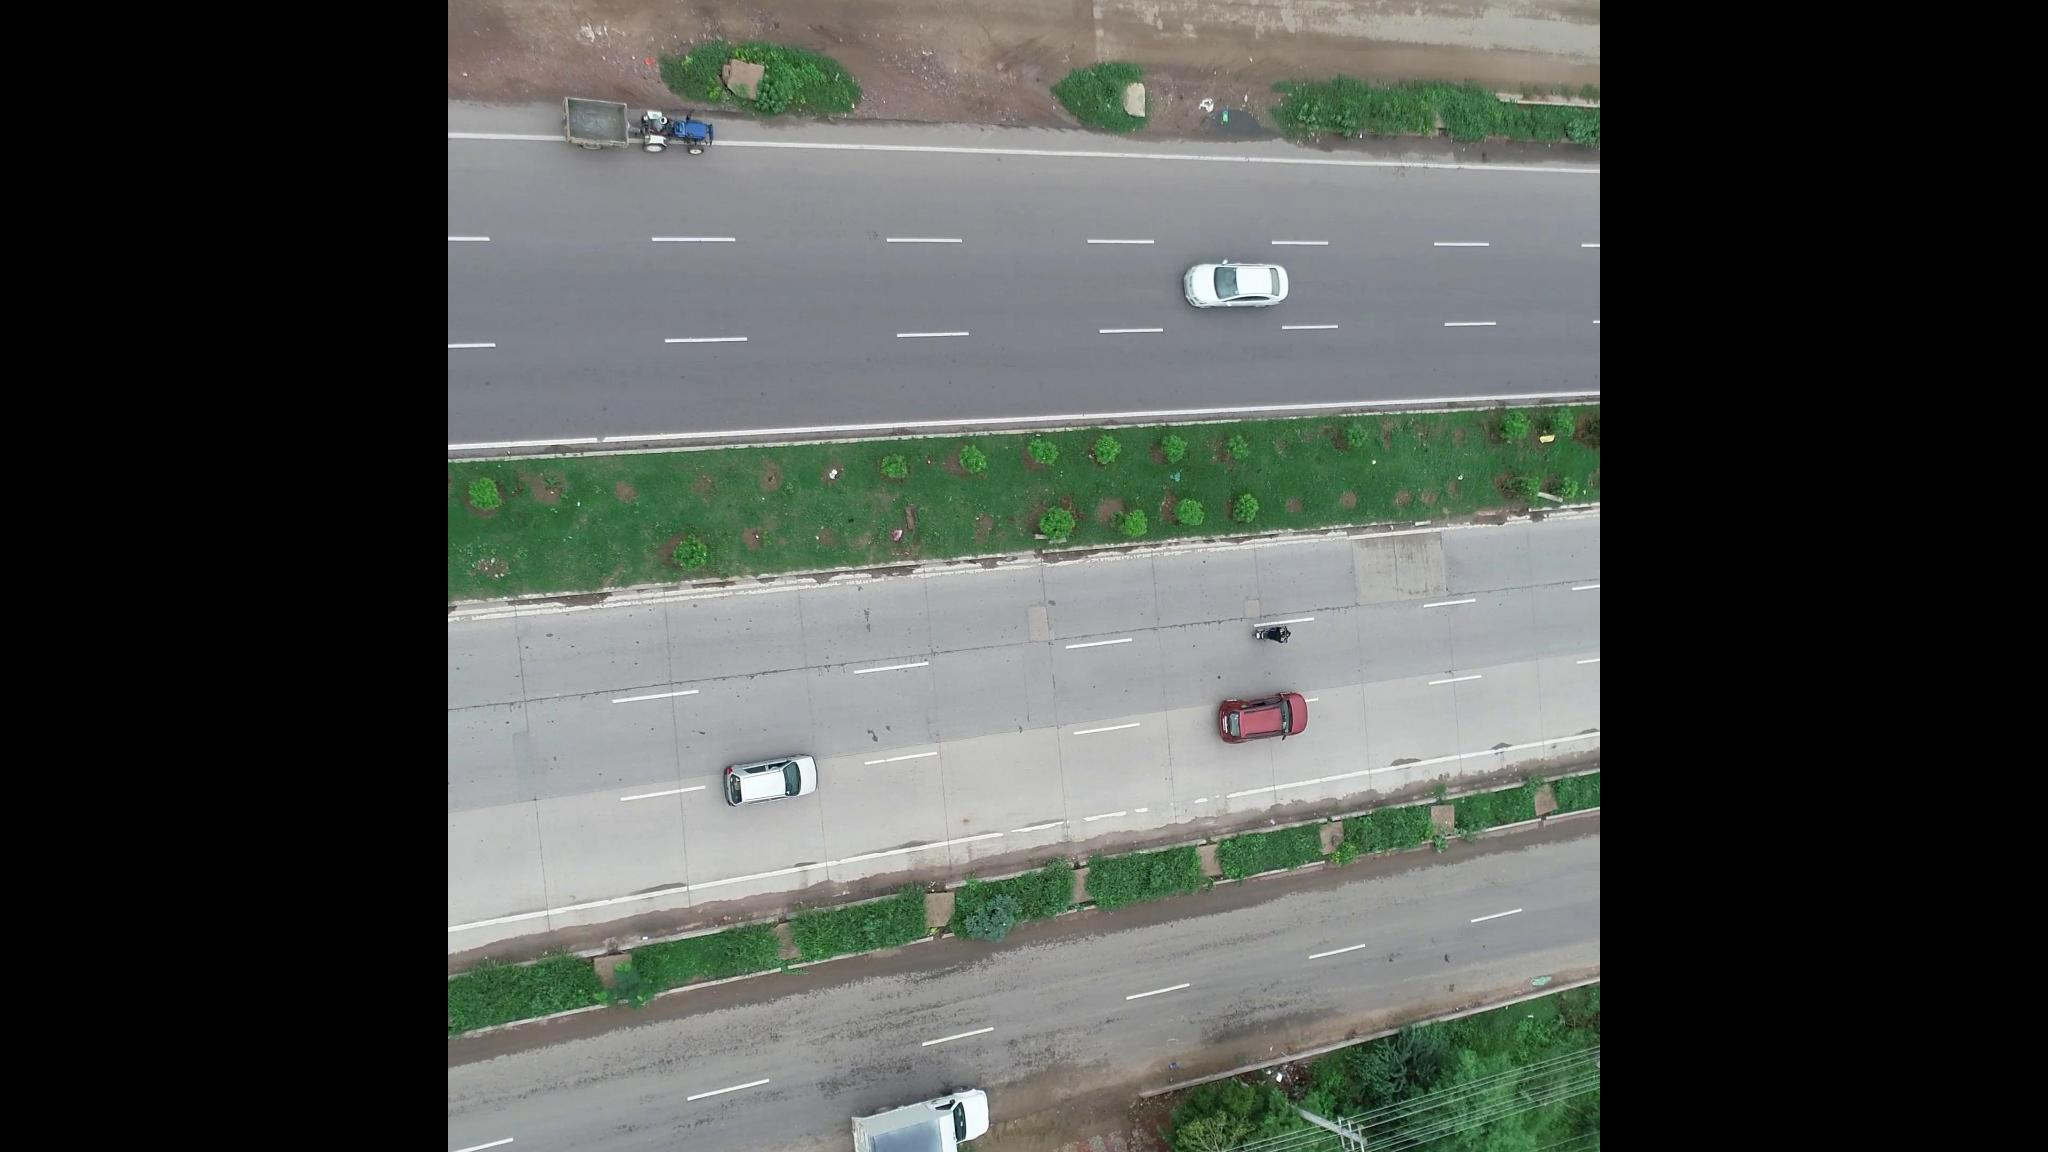Muddy_road: (857, 1, 1201, 108), (467, 1, 830, 98)
